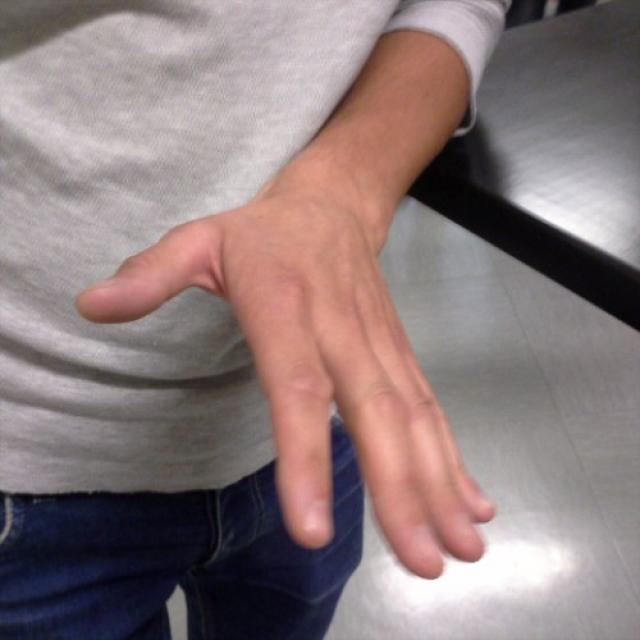paper: (77, 209, 497, 581)
